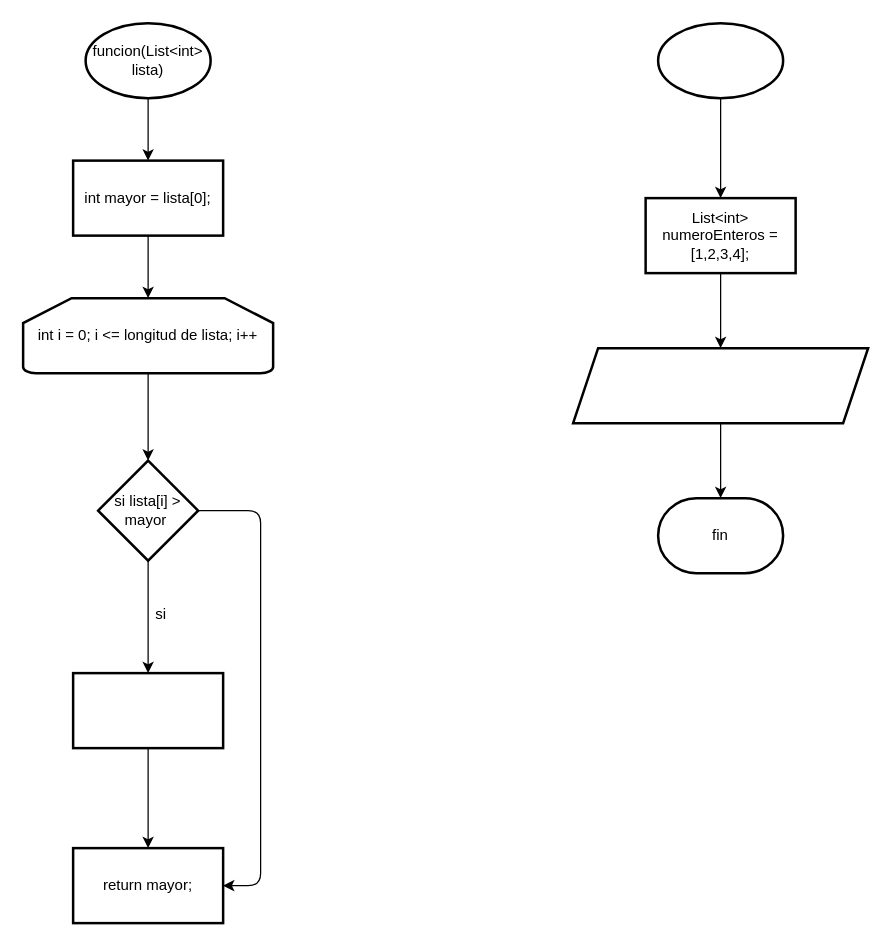
This 890x945 diagram has some shape labels left out. The shapes that lost their labels are listed below. From the top down, each one's box as (x1, y1, x2, y2) in pixels, then its label:
(656, 21, 784, 99): main
(571, 346, 869, 424): print(funcion(numeroEnteros));
(71, 671, 224, 749): mayor = lista[i]
